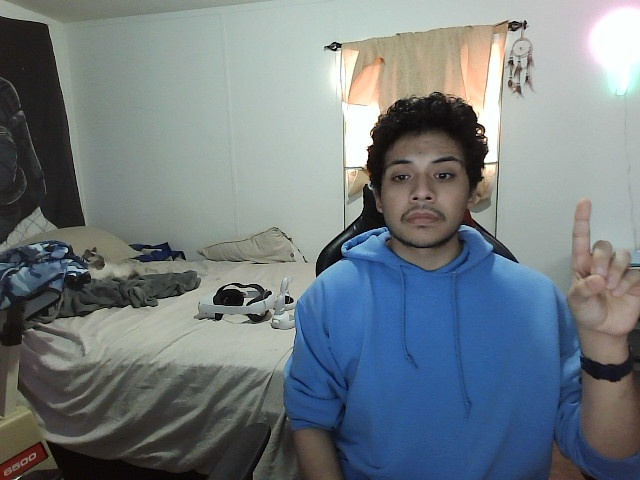D: (562, 194, 640, 341)
